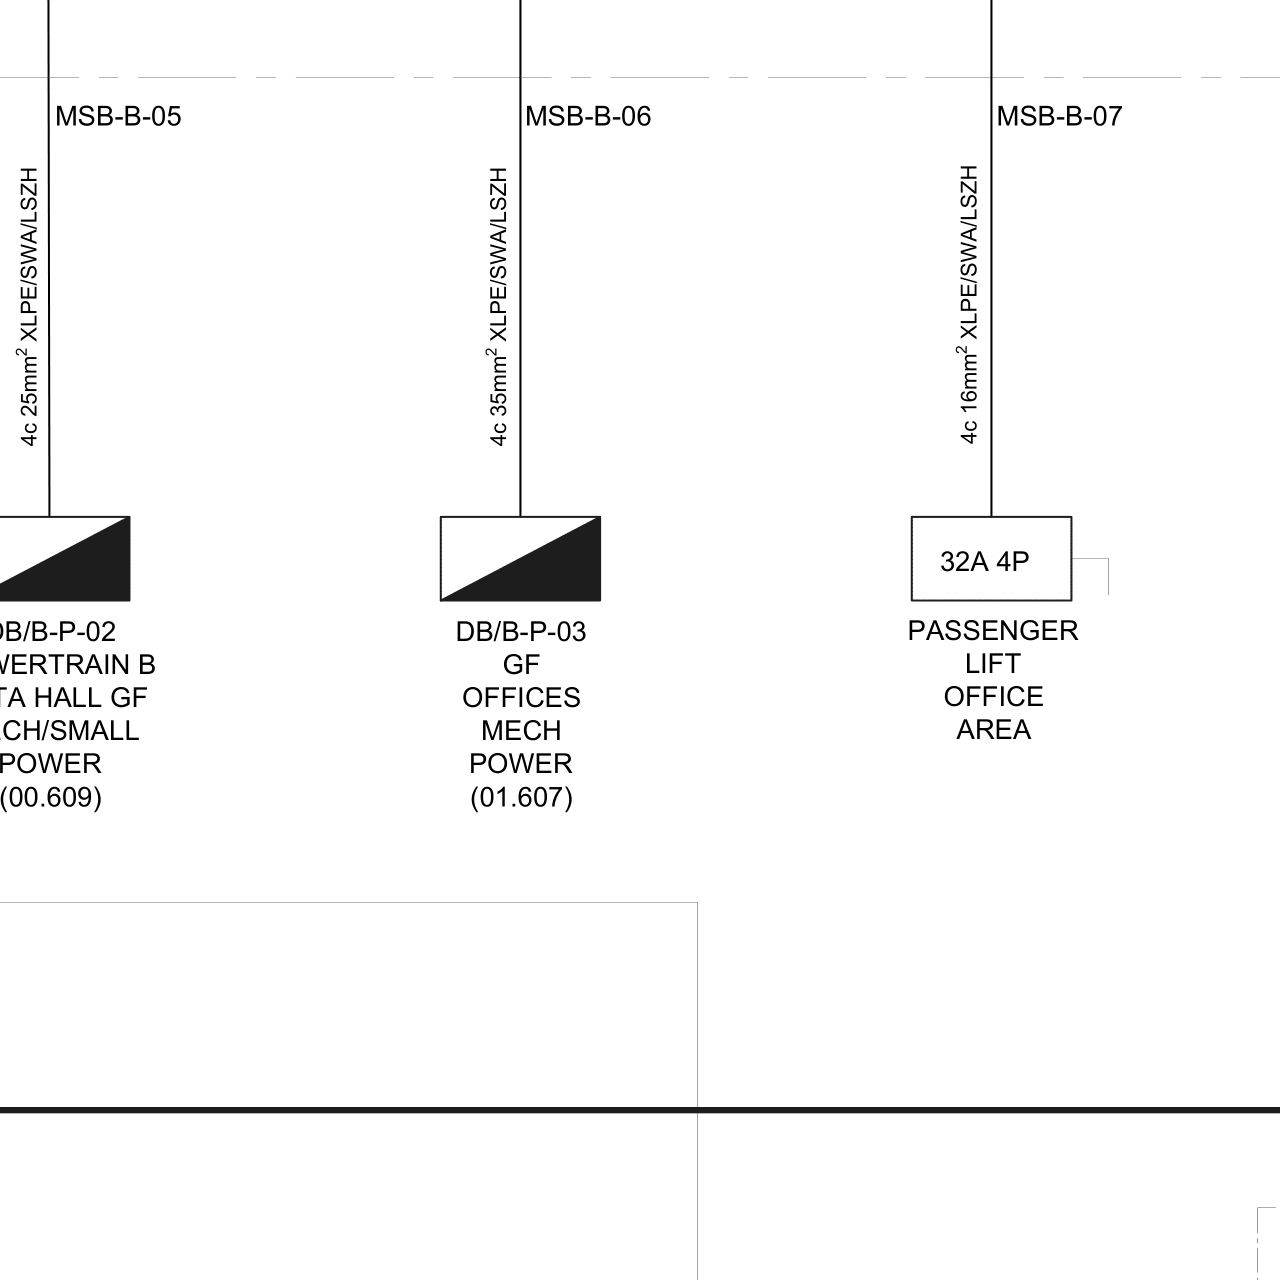Distribution Board: (428, 502, 617, 613)
